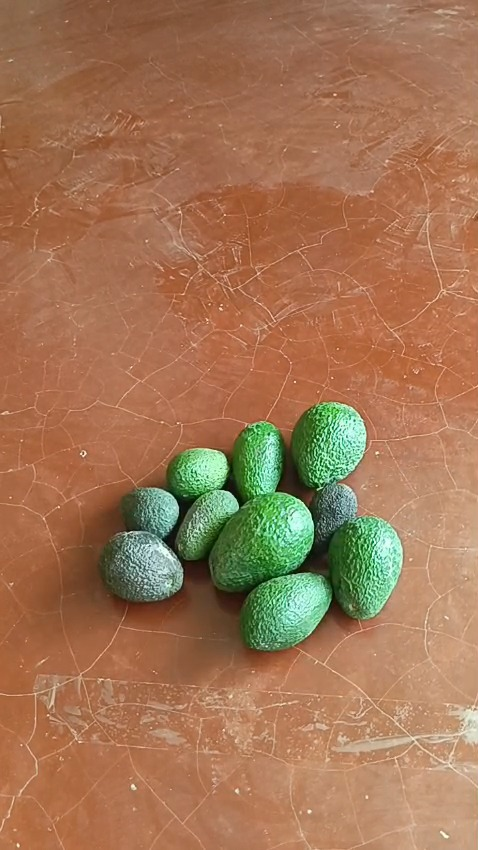Primera: (209, 491, 315, 591), (290, 401, 366, 487), (166, 447, 230, 502), (232, 491, 303, 535)
Segunda: (238, 570, 332, 649), (97, 530, 185, 602), (230, 421, 284, 502)
Tercera: (327, 515, 403, 619), (175, 488, 240, 561), (307, 482, 358, 556), (120, 486, 180, 541)
